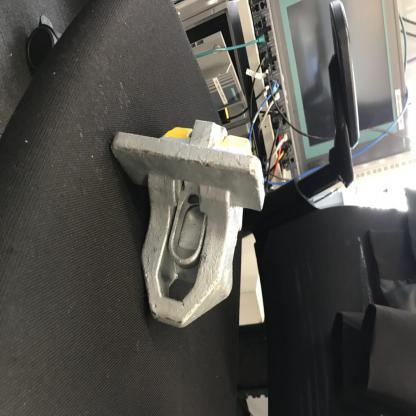Twistlock: (105, 112, 271, 336)
